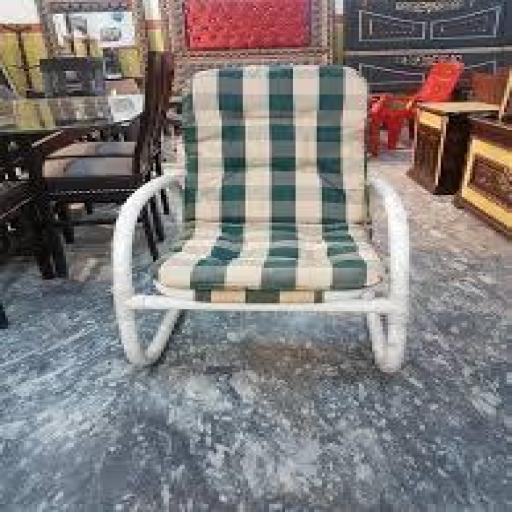chair: (100, 56, 425, 391)
